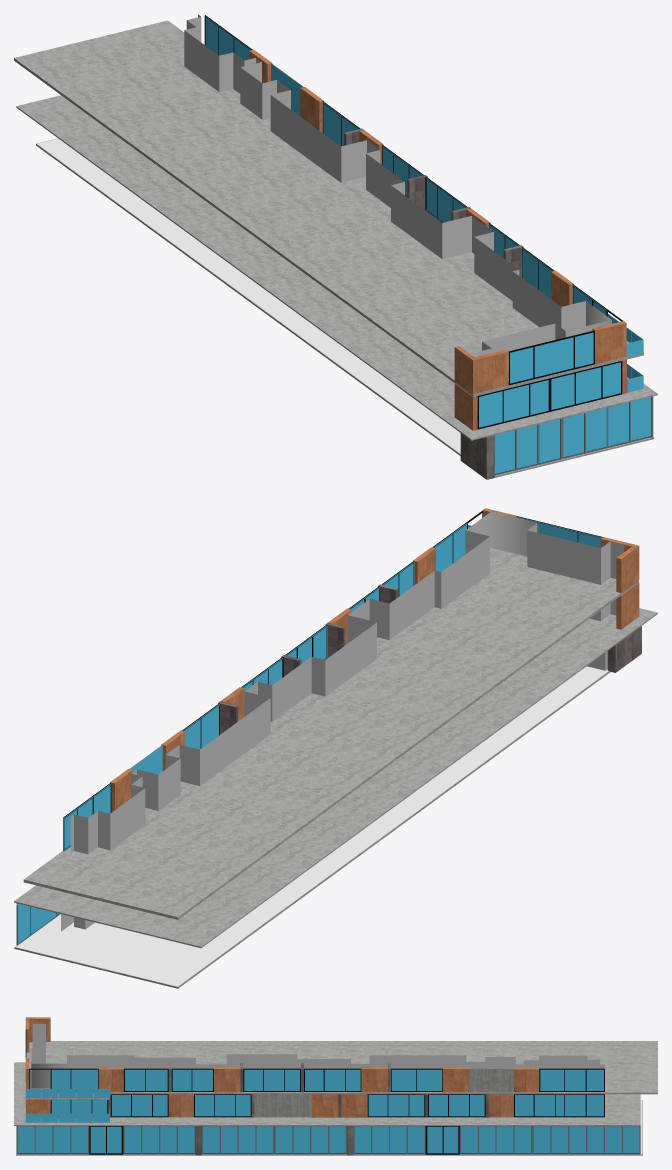
File: house_01_section_1.FBX
3 views of the same model, one above another, from view 1: azimuth 30°, elevation 25°; view 2: azimuth 150°, elevation 25°; view 3: azimuth 270°, elevation 25° (orthographic). The views are drawn at different scales.
Parts seen in each view (by area): view 1: Object, Object1062, Object1078, Object1064, Object1066, Object1072, Object1068, Object1070, Object1074; view 2: Object, Object1078, Object1064, Object1062, Object1066, Object1068, Object1070, Object1072; view 3: Object1062, Object, Object1078, Object1066, Object1072, Object1074, Plane099, Object1070, Object1068.
Part boxes in pixels (x1,y1,x2,y2): Object: [14, 20, 657, 440]; Object1062: [205, 16, 651, 473]; Object1078: [184, 14, 611, 356]; Object1064: [37, 138, 650, 475]; Object1066: [249, 49, 626, 430]; Object1072: [204, 15, 622, 429]; Object1068: [344, 128, 523, 479]; Object1070: [36, 138, 654, 477]; Object1074: [494, 396, 653, 475]; Object: [14, 548, 657, 948]; Object1078: [70, 511, 624, 854]; Object1064: [16, 666, 608, 986]; Object1062: [17, 516, 602, 944]; Object1066: [110, 508, 639, 812]; Object1068: [218, 584, 641, 734]; Object1070: [14, 671, 610, 988]; Object1072: [63, 510, 602, 851]; Object1062: [18, 1069, 639, 1153]; Object: [14, 1041, 657, 1125]; Object1078: [31, 1023, 604, 1088]; Object1066: [25, 1017, 539, 1117]; Object1072: [25, 1029, 604, 1154]; Object1074: [16, 1126, 640, 1154]; Plane099: [254, 1069, 513, 1117]; Object1070: [16, 1100, 642, 1155]; Object1068: [108, 1063, 488, 1155].
Size of the model in its own units: 17980 by 10917 by 78076.
